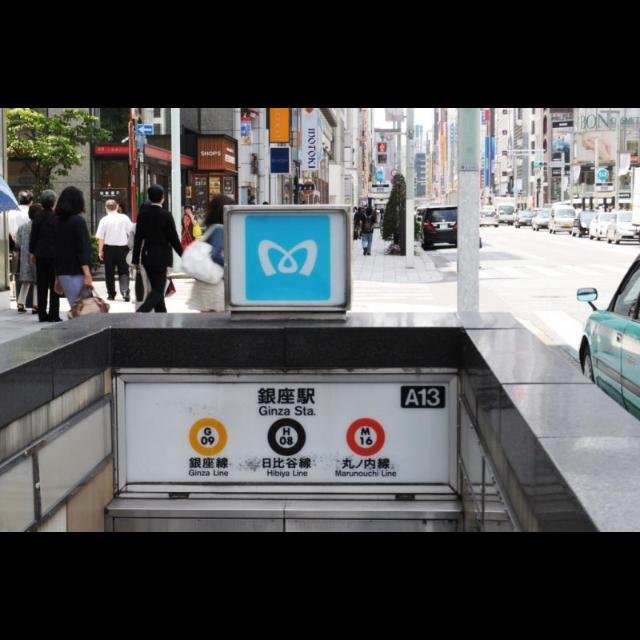head: (208, 194, 238, 226), (62, 186, 84, 214), (148, 184, 168, 206), (18, 191, 36, 209), (29, 204, 45, 222), (40, 190, 56, 208), (138, 203, 154, 221), (105, 200, 121, 217), (185, 206, 195, 216), (367, 208, 373, 216)
person: (178, 192, 255, 360), (130, 182, 192, 334), (48, 183, 102, 349), (127, 198, 177, 330), (28, 187, 70, 323), (5, 188, 47, 314), (11, 201, 55, 317), (96, 198, 134, 304), (179, 202, 205, 272), (360, 205, 378, 259)
